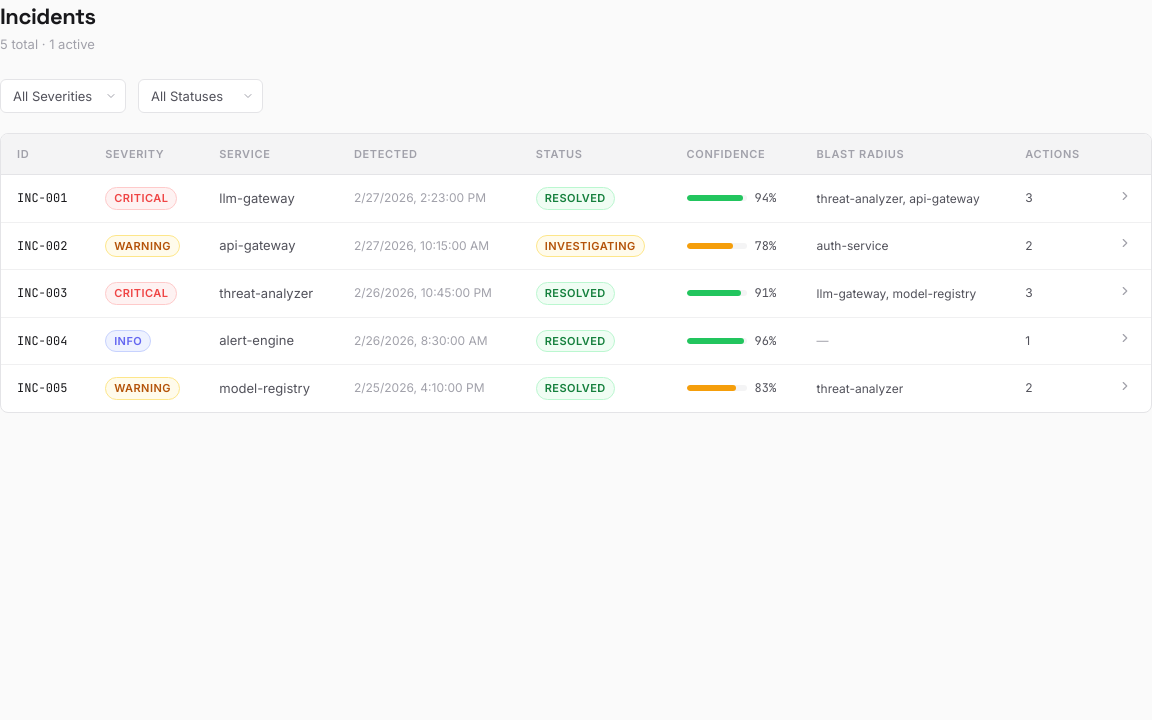
it: Incidents Page › clicking a row opens the drawer
This screenshot has width=1152, height=720.
Click the row with id "incident-row-INC-001": (576, 198) [1,174,1151,222]
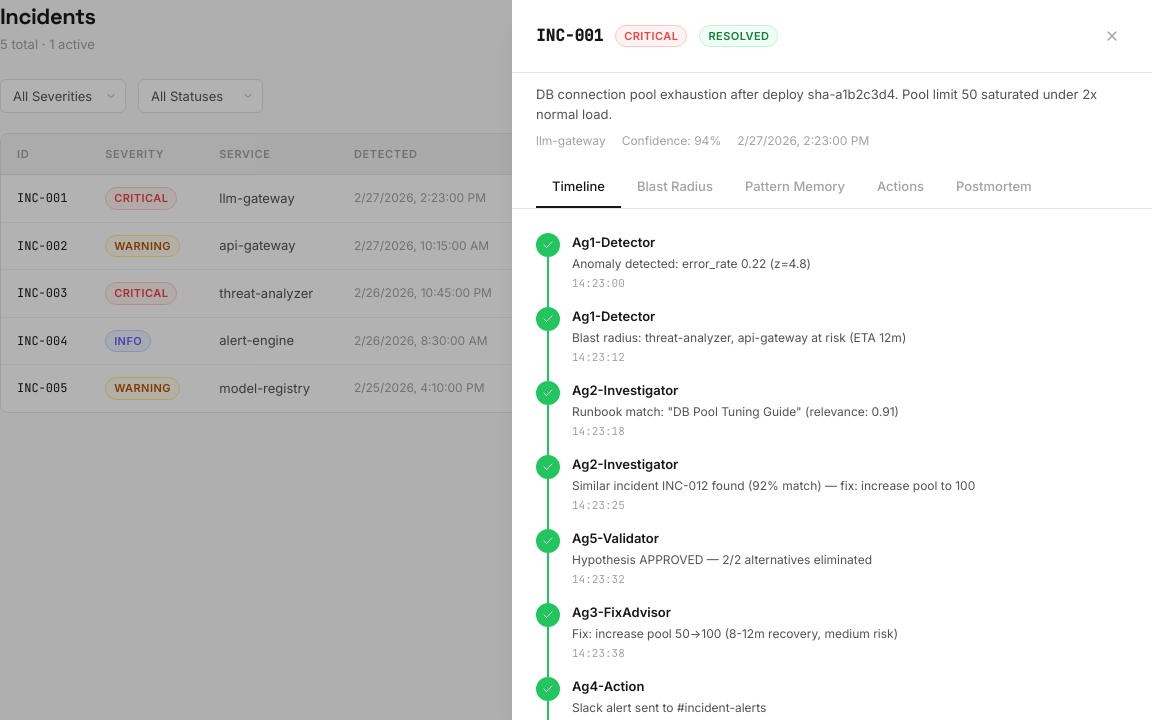
expect the element with id "incident-drawer" is shown: met, box [512,0,1151,719]
